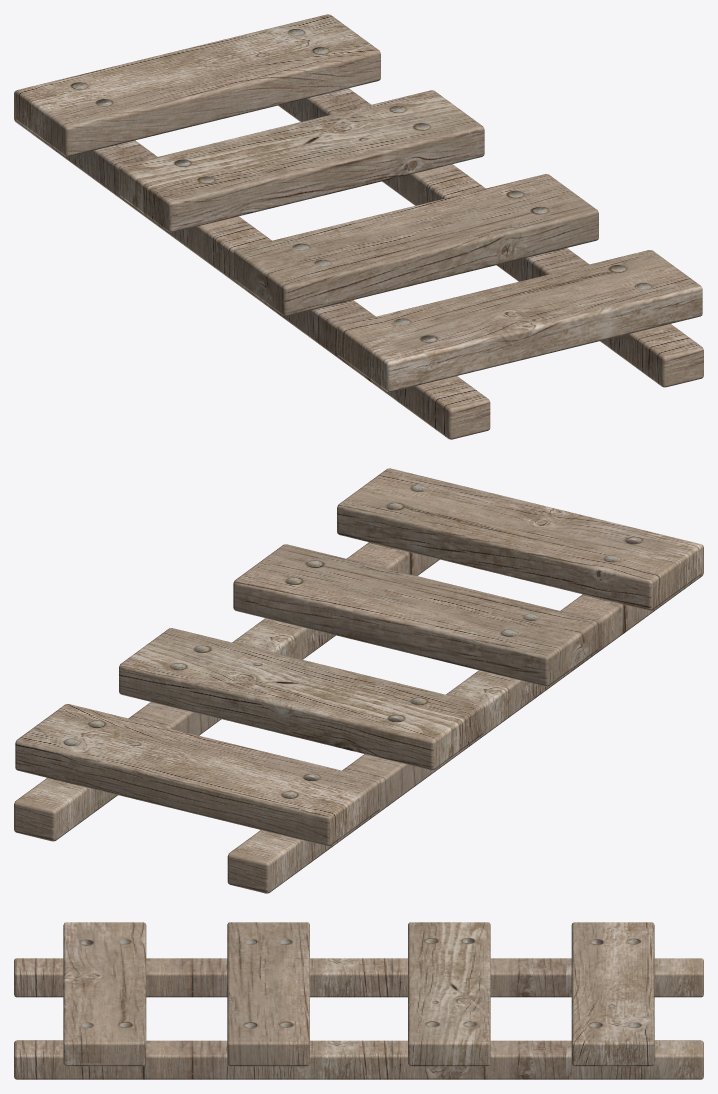
The model's file is ladder.fbx.
3 views of the same model, one above another, from view 1: azimuth 30°, elevation 25°; view 2: azimuth 150°, elevation 25°; view 3: azimuth 270°, elevation 25° (orthographic). The views are drawn at different scales.
Visible parts, largest first — view 1: ladder; view 2: ladder; view 3: ladder.
Boxes of the visible parts, x1=… form: ladder: x1=14, y1=14, x2=703, y2=439; ladder: x1=14, y1=468, x2=703, y2=893; ladder: x1=14, y1=922, x2=703, y2=1079.
Bounding box in the file's own units: 48.47 × 9.18 × 116.
